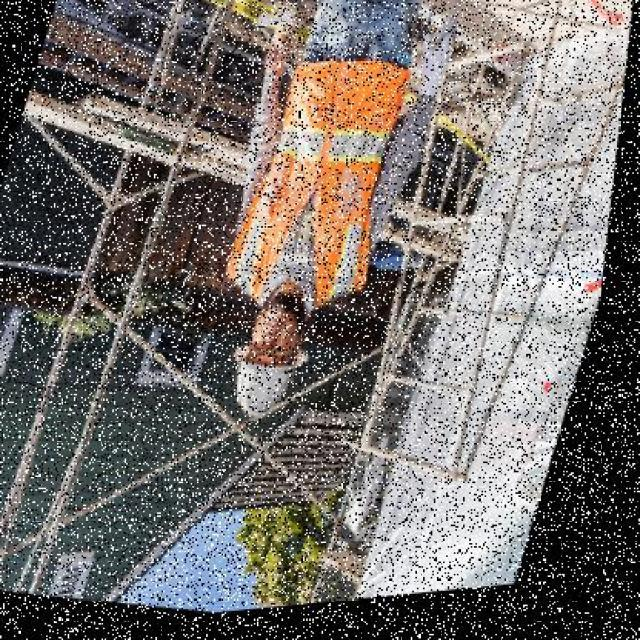helmet: (213, 321, 331, 433)
vest: (219, 50, 439, 331)
